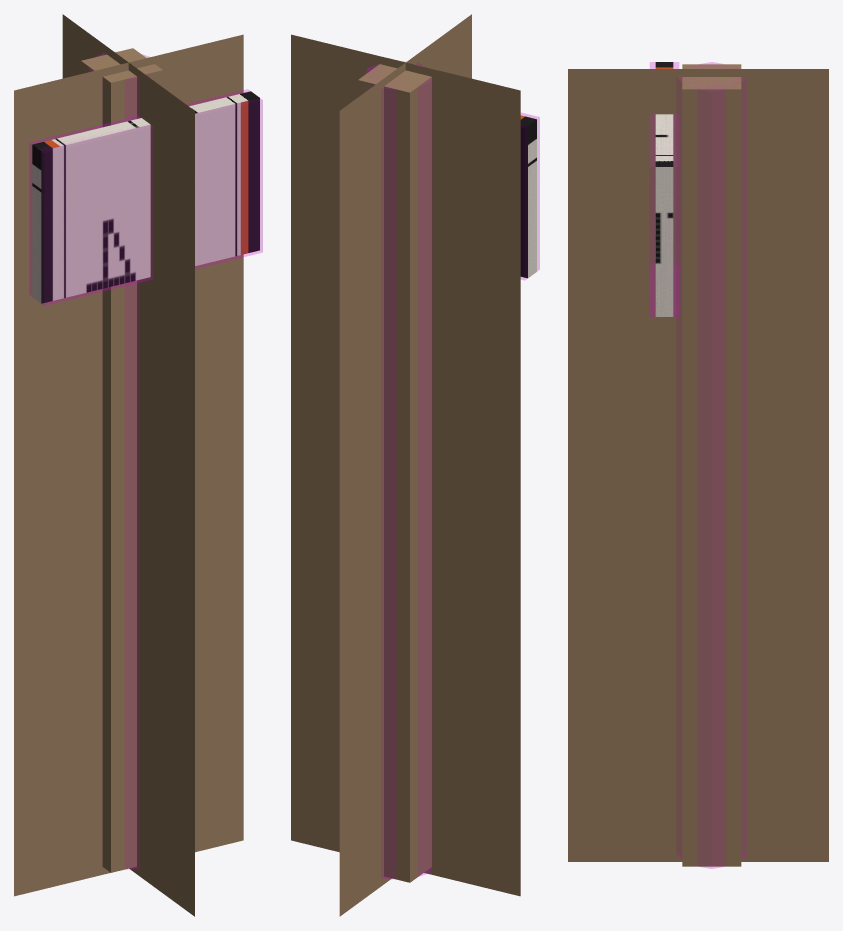
File: milemarker_004.dae
3 renders of one model, left to right at view 1: azimuth 30°, elevation 25°; view 2: azimuth 150°, elevation 25°; view 3: azimuth 270°, elevation 25°, orthographic.
Visible parts, largest first — view 1: milemarker_004_a50, milemarker_004_a800, Colmesh_sign-1, milemarker_004_a200, Colmesh_post-1; view 2: milemarker_004_a50, milemarker_004_a800, Colmesh_post-1, milemarker_004_a200, Colmesh_sign-1; view 3: milemarker_004_a50, milemarker_004_a800, Colmesh_post-1, Colmesh_sign-1.
Boxes of the visible parts, x1,y1,x2,y2 form: milemarker_004_a50: (14, 14, 243, 916); milemarker_004_a800: (32, 48, 259, 872); Colmesh_sign-1: (29, 89, 262, 305); milemarker_004_a200: (102, 56, 159, 866); Colmesh_post-1: (89, 53, 148, 869); milemarker_004_a50: (291, 14, 520, 916); milemarker_004_a800: (358, 58, 536, 882); Colmesh_post-1: (366, 61, 431, 878); milemarker_004_a200: (379, 66, 431, 879); Colmesh_sign-1: (521, 113, 539, 280); milemarker_004_a50: (568, 69, 828, 861); milemarker_004_a800: (655, 62, 741, 866); Colmesh_post-1: (677, 62, 746, 868); Colmesh_sign-1: (650, 62, 678, 316).
Size of the model in its own units: 0.441 by 0.441 by 1.48.
3 materials, 1 textured.
